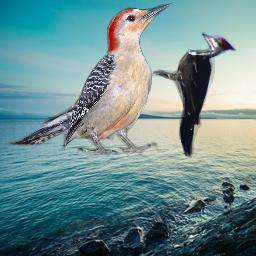Woodpecker: (5, 0, 175, 156), (152, 32, 237, 158)
